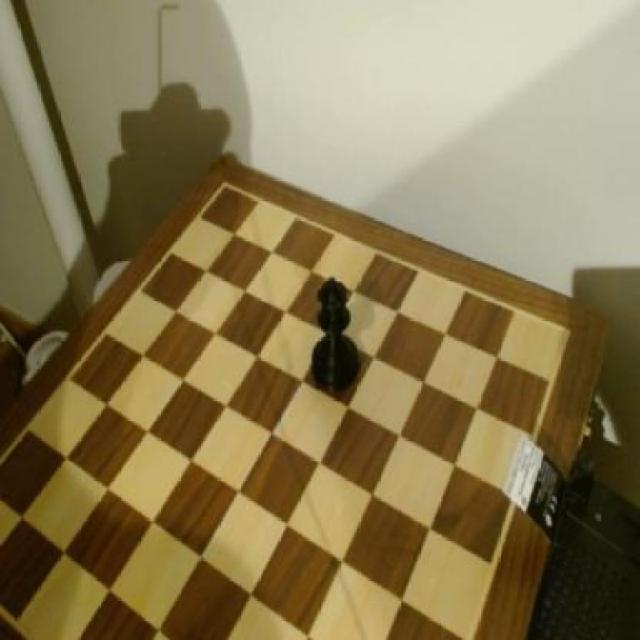black-pawn: (311, 272, 363, 390)
